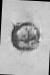O50: (3, 0, 48, 74)
